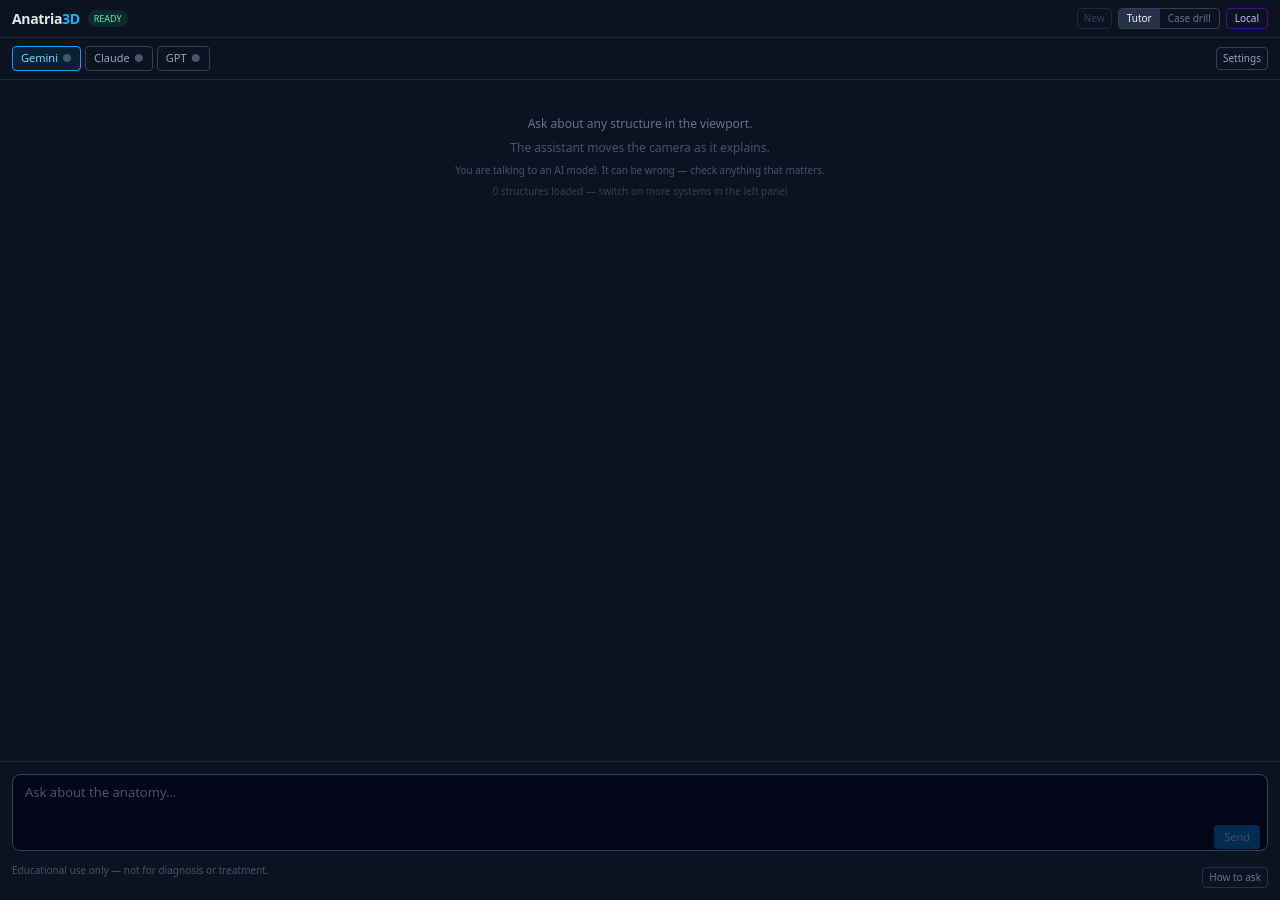
Test: live event routing › releases a turn on malformed events and lets the user retry
Type "Explain the anatomy" into the text box with placeholder "Ask about the anatomy…" at (640, 812), box [12,774,1268,851]
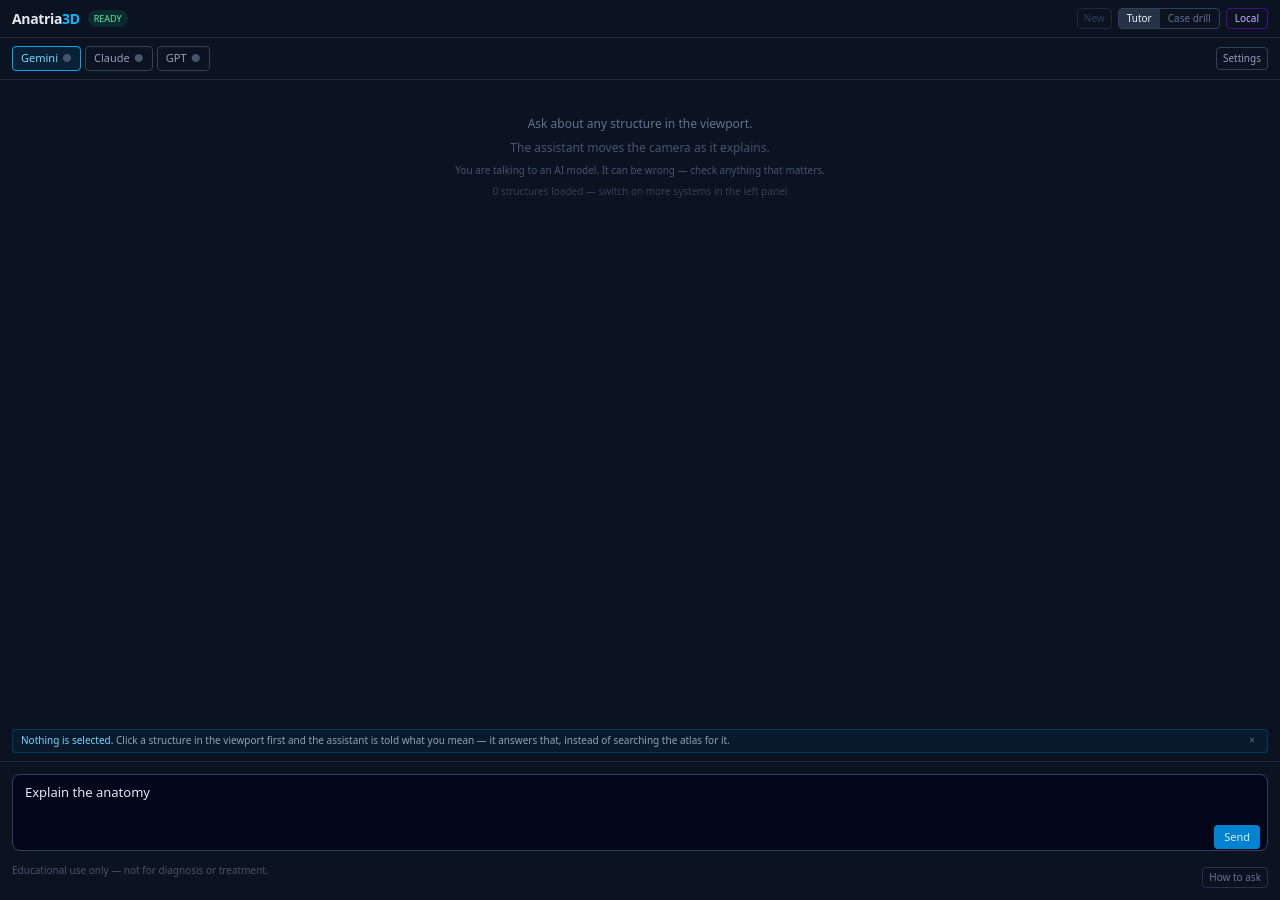
Click the button "Send" at (1237, 837), box [1214,824,1260,849]
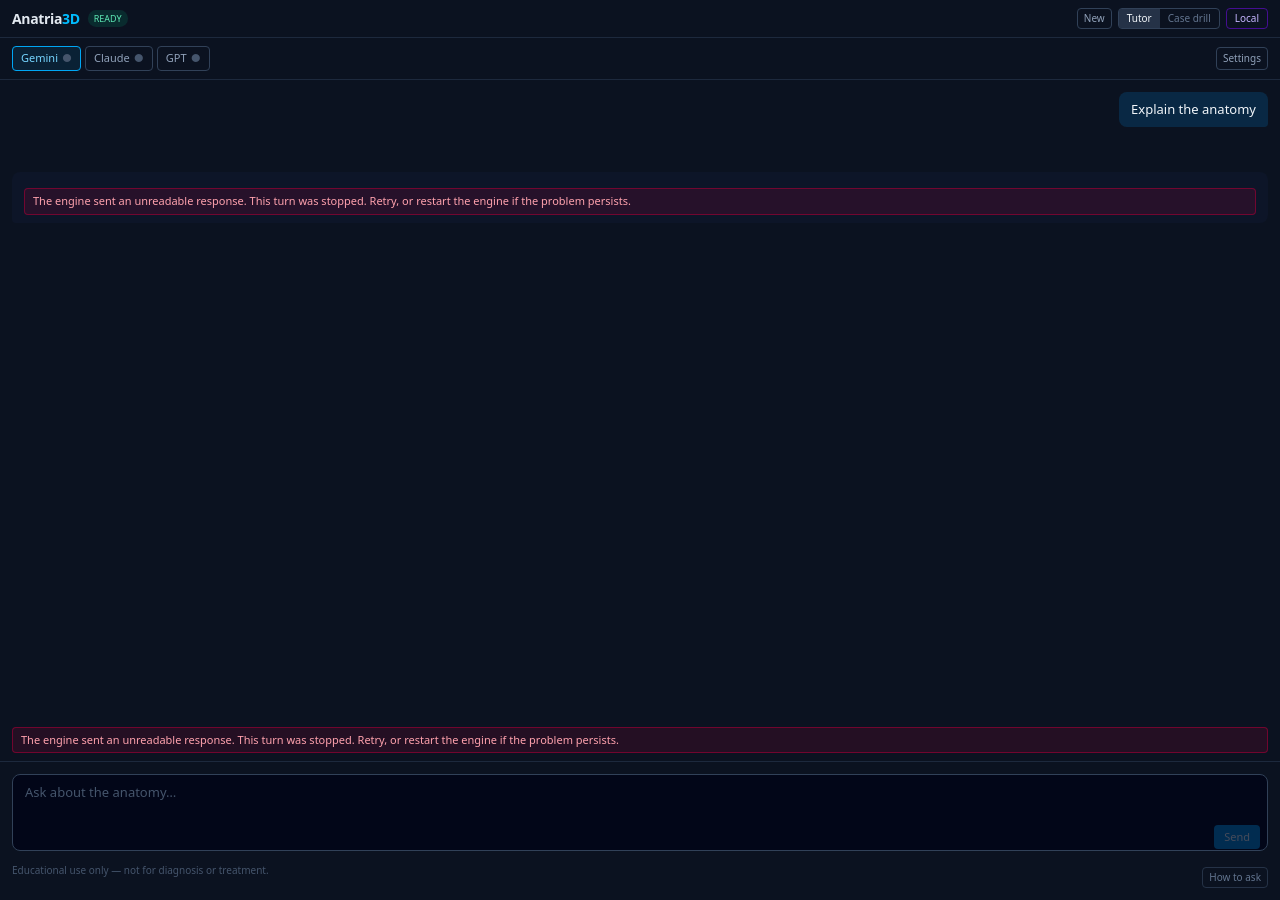
Expected: the text "unreadable response" is shown 2 times, [24,188,1256,215]; [12,726,1268,753]
